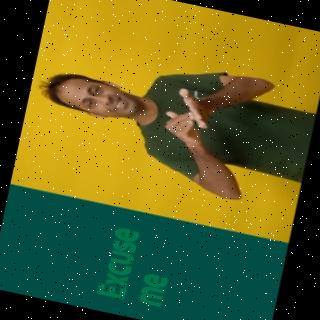ExcuseMe: (24, 32, 319, 212)
